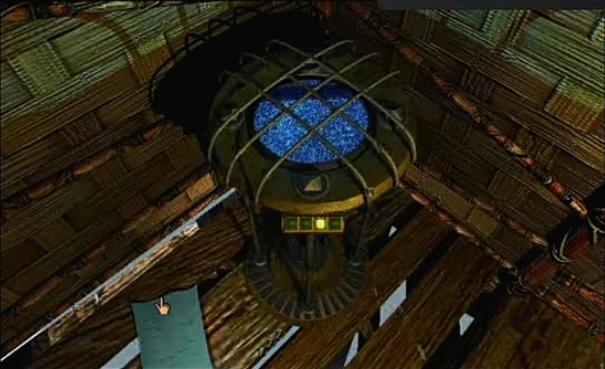Pointer: (152, 293, 175, 317)
